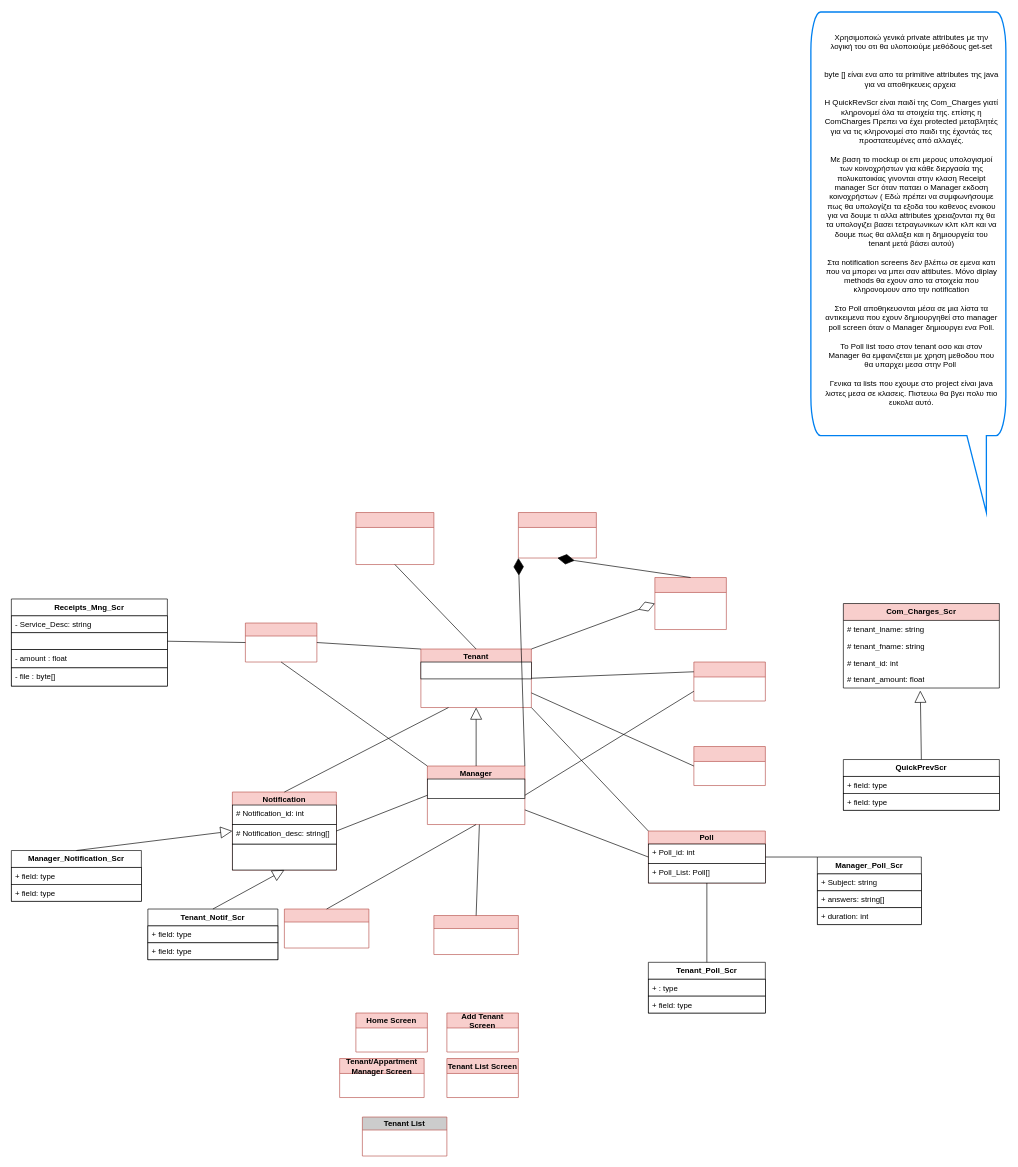
Some shapes in this 1018 by 1167 pixel diagram are drawn without their labels. The shapes that lost their labels are listed below. From the top down, each one's centre as x and y in pixels, then its label:
the point at 394,538: Complaint
the point at 557,535: Building
the point at 690,603: Apartment
the point at 89,641: - Service_id: int
the point at 281,642: Receipt
the point at 475,670: - tenant_id: int
the point at 729,681: Payment
the point at 729,766: ChatRoom
the point at 476,788: - manager_id: int
the point at 284,856: # Notification_list: Notification[]
the point at 326,928: ServiceProvider
the point at 475,935: Marketplace
